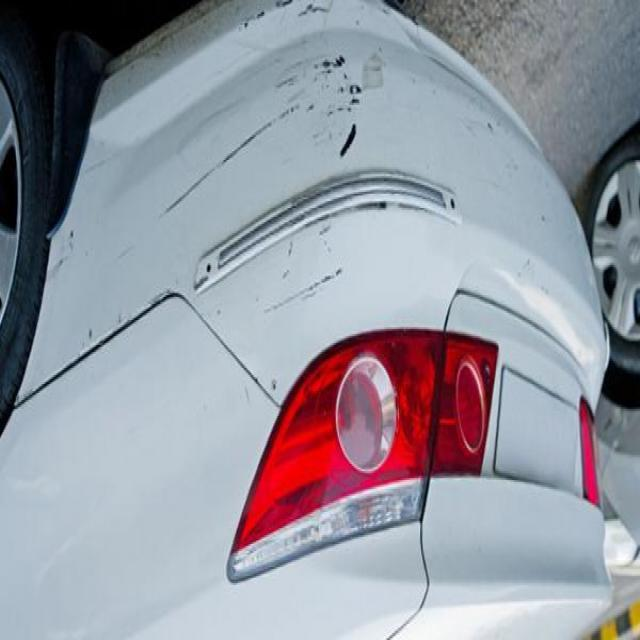scratch: (153, 92, 302, 224), (255, 257, 347, 328)
